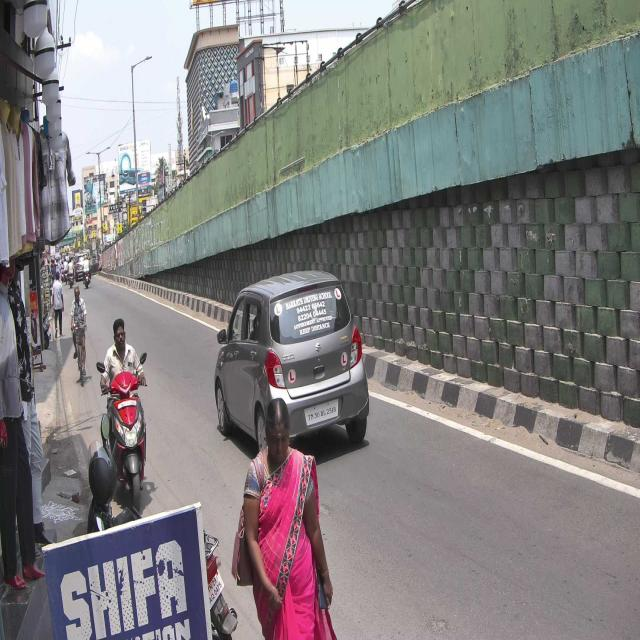single_rider: (98, 316, 152, 514)
